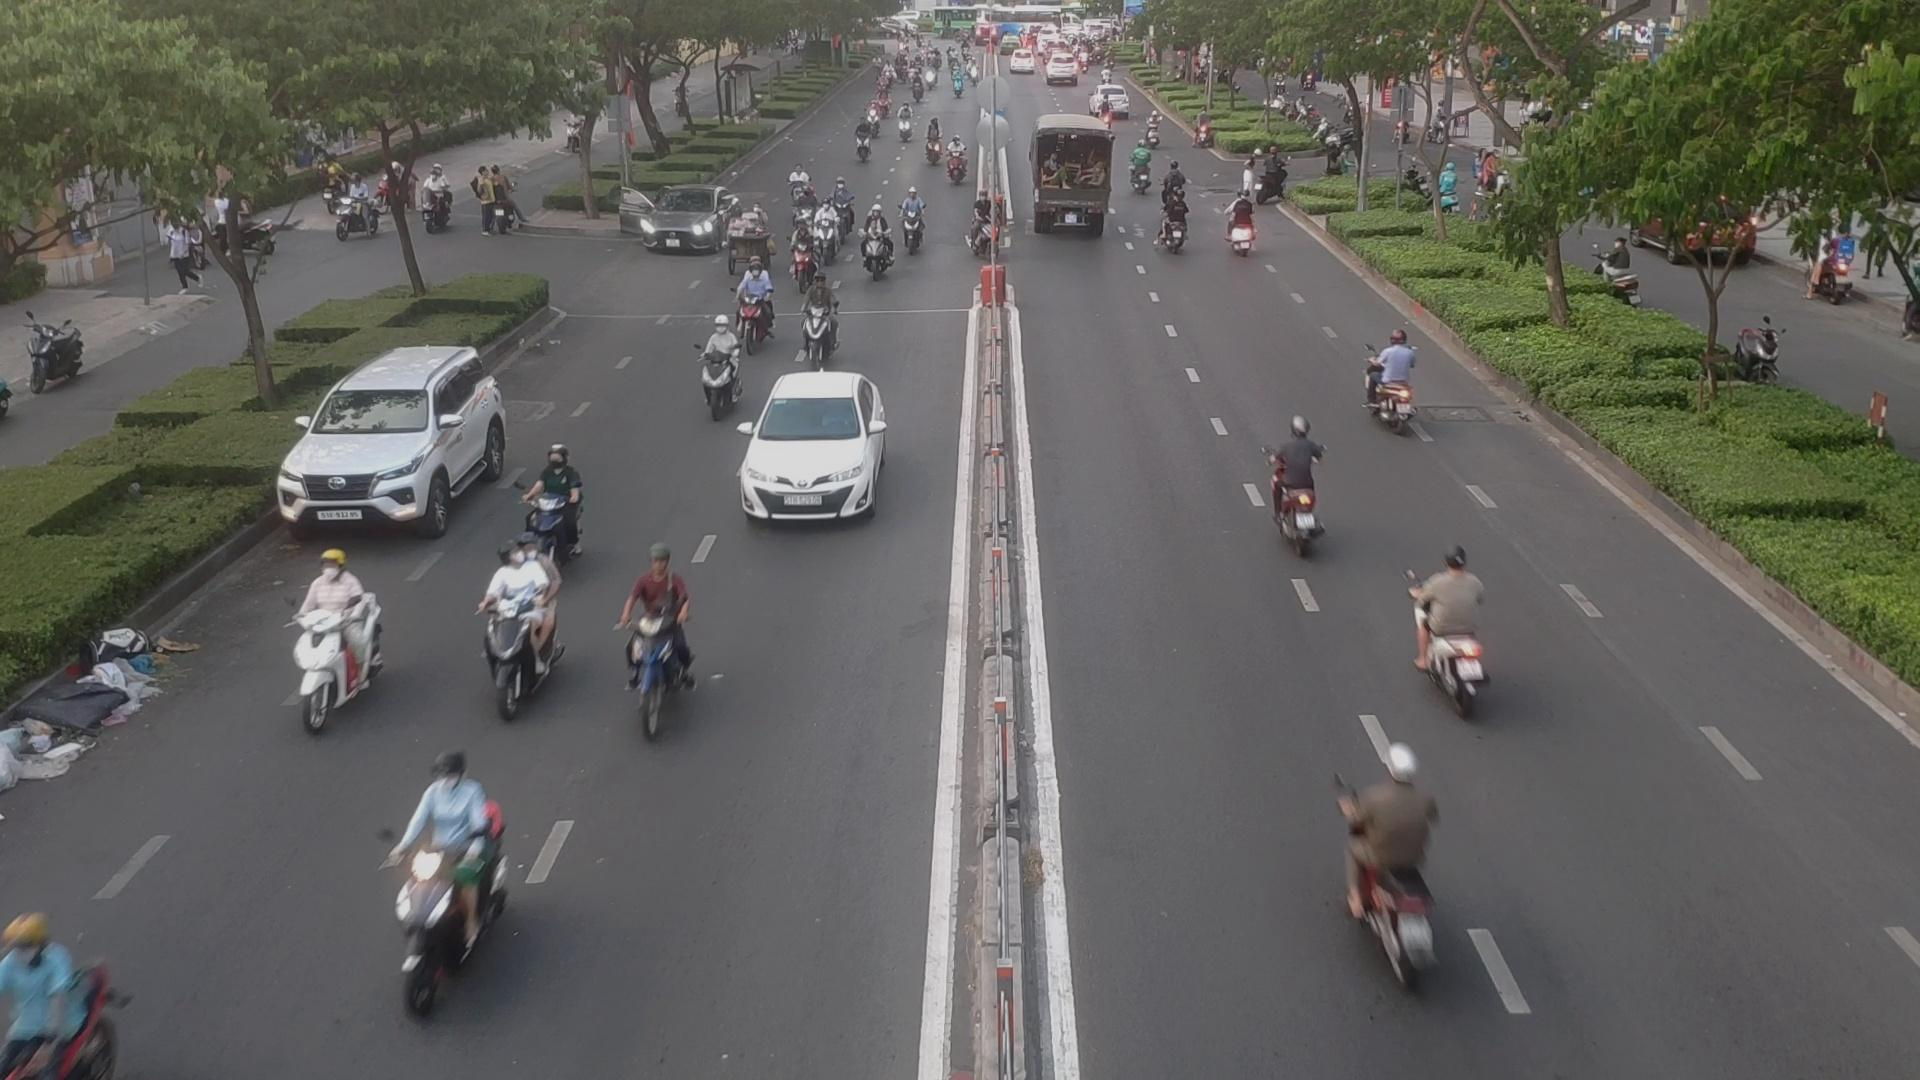car: (281, 351, 522, 539), (733, 376, 898, 524), (615, 191, 741, 258)
motorbike: (378, 766, 520, 1001), (1323, 794, 1439, 986), (0, 909, 117, 1080), (287, 566, 397, 728), (617, 560, 712, 738), (468, 551, 564, 716), (1408, 549, 1505, 704), (1255, 423, 1328, 549), (512, 446, 593, 555), (1360, 332, 1425, 422), (694, 330, 749, 413), (799, 280, 847, 359), (733, 266, 779, 342), (855, 208, 899, 277), (717, 208, 765, 260), (1149, 196, 1188, 255), (804, 207, 844, 261), (1226, 200, 1261, 257), (918, 129, 945, 164)
